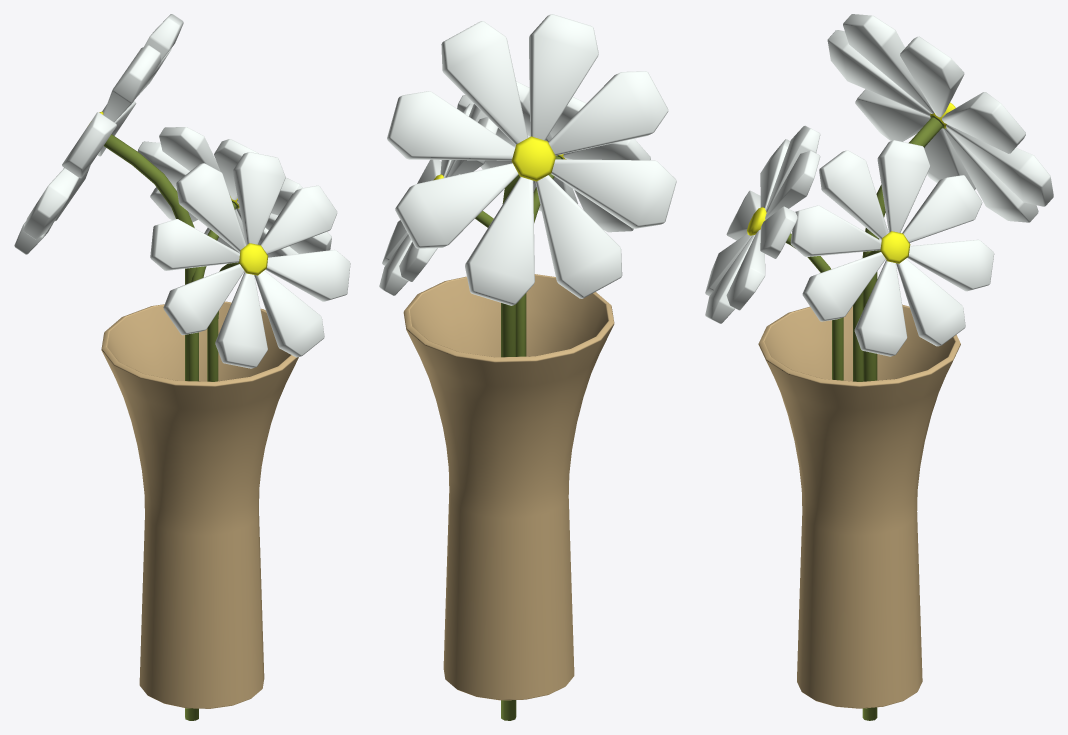
File: vaso.fbx
The picture shows the model from 3 angles, left to right: view 1: azimuth 30°, elevation 25°; view 2: azimuth 150°, elevation 25°; view 3: azimuth 270°, elevation 25°; orthographic projection. The views are drawn at different scales.
Visible parts, largest first — view 1: Plastic Flower.003; view 2: Plastic Flower.003; view 3: Plastic Flower.003.
Boxes of the visible parts, x1,y1,x2,y2 form: Plastic Flower.003: (14,14,350,720); Plastic Flower.003: (379,14,676,720); Plastic Flower.003: (705,14,1053,720).
Size of the model in its own units: 32.96 by 78.43 by 36.37.
